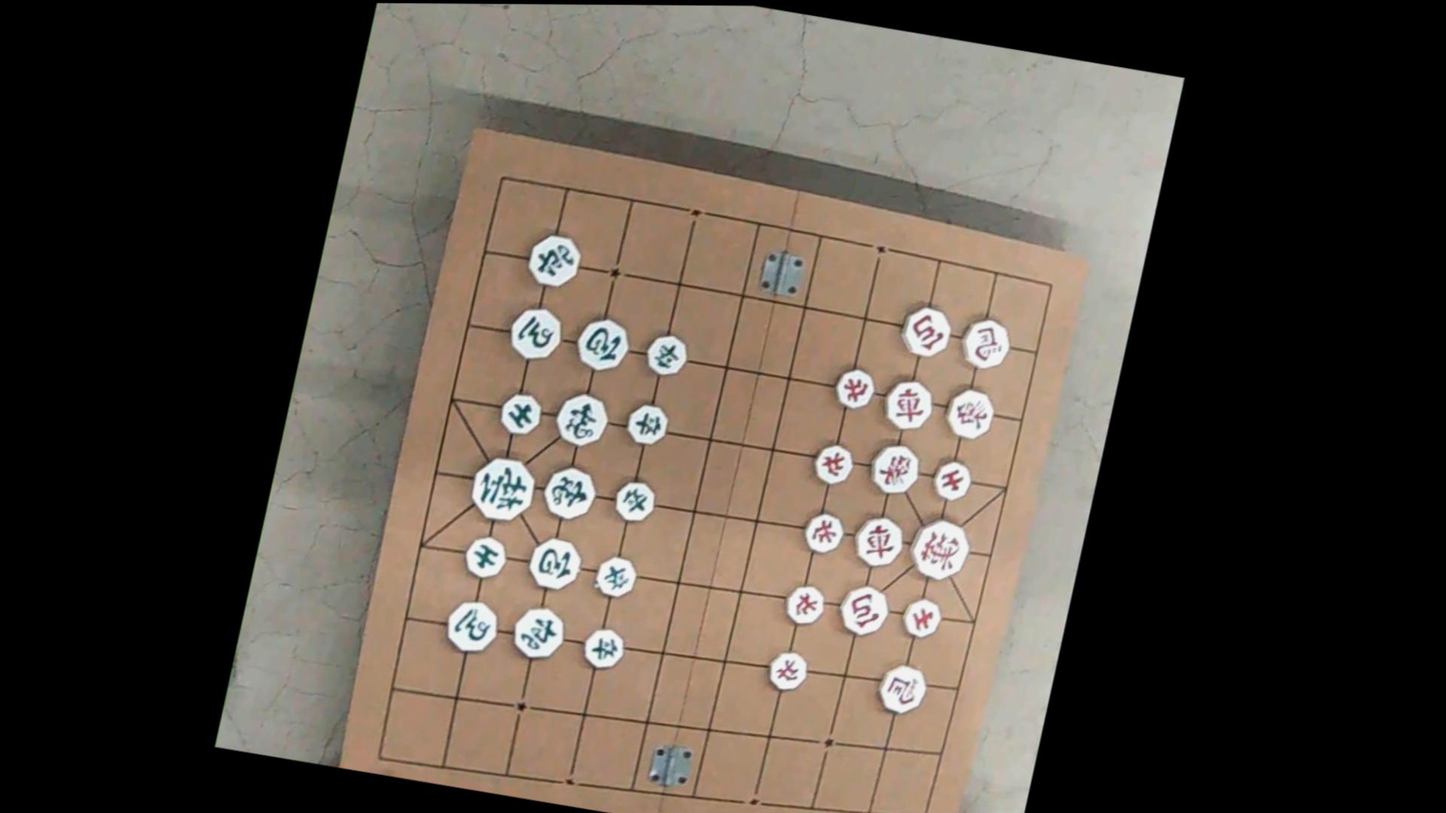cha_green: (508, 605, 567, 662), (523, 233, 583, 289)
cha_red: (849, 515, 906, 570), (878, 378, 935, 432)
jol_green: (622, 402, 670, 447), (642, 332, 690, 377), (580, 626, 627, 671), (592, 555, 639, 598), (611, 480, 657, 523)
jol_red: (800, 511, 846, 555), (764, 650, 810, 693), (831, 367, 877, 410), (782, 583, 826, 626), (810, 443, 855, 485)
ma_green: (441, 598, 501, 655), (505, 306, 564, 362)
ma_red: (956, 316, 1014, 371), (874, 663, 929, 716)
po_green: (523, 535, 584, 592), (572, 316, 632, 372)
po_red: (896, 304, 953, 360), (834, 584, 891, 638)
sa_green: (496, 392, 543, 437), (460, 535, 508, 579)
sa_red: (898, 596, 944, 640), (929, 458, 973, 502)
sang_green: (538, 465, 599, 523), (551, 391, 611, 449)
sang_red: (941, 387, 996, 442), (865, 442, 922, 495)
wang_green: (465, 454, 539, 524)
wang_red: (905, 516, 973, 582)
